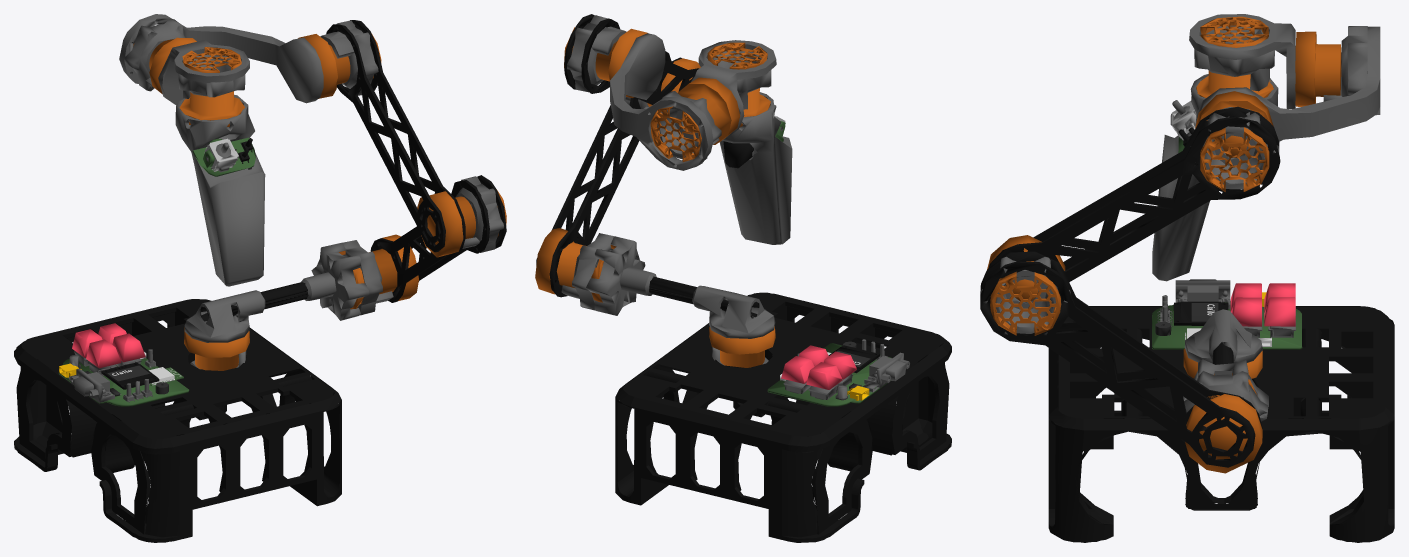
File: cctrl1_3-low.glb
3 views of the same model, side by side, from view 1: azimuth 30°, elevation 25°; view 2: azimuth 150°, elevation 25°; view 3: azimuth 270°, elevation 25° (orthographic). The views are drawn at different scales.
Parts seen in each view (by area): view 1: Body3.060; view 2: Body3.060; view 3: Body3.060.
Boxes of the visible parts, bbox=[...] form: Body3.060: bbox=[14, 14, 506, 542]; Body3.060: bbox=[535, 14, 951, 542]; Body3.060: bbox=[980, 14, 1394, 542].
Size of the model in its own units: 4.74 by 5.31 by 4.19.
